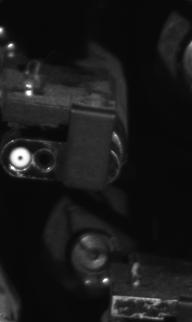fiber: (6, 143, 35, 171)
